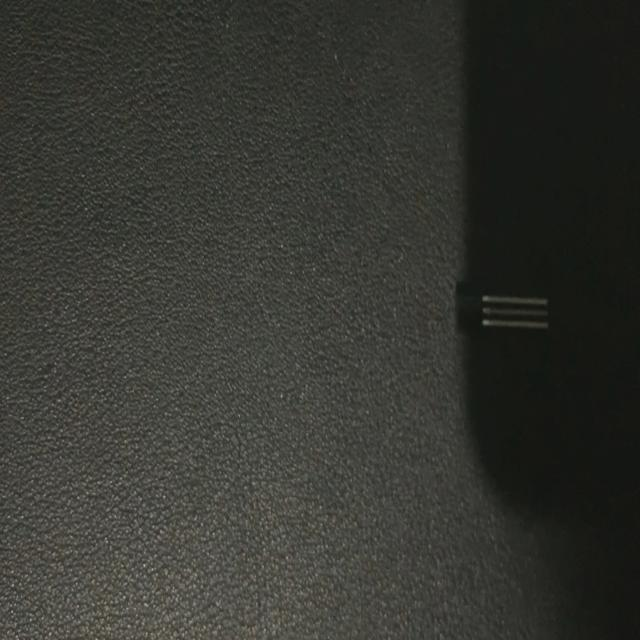BJT: (450, 272, 554, 344)
